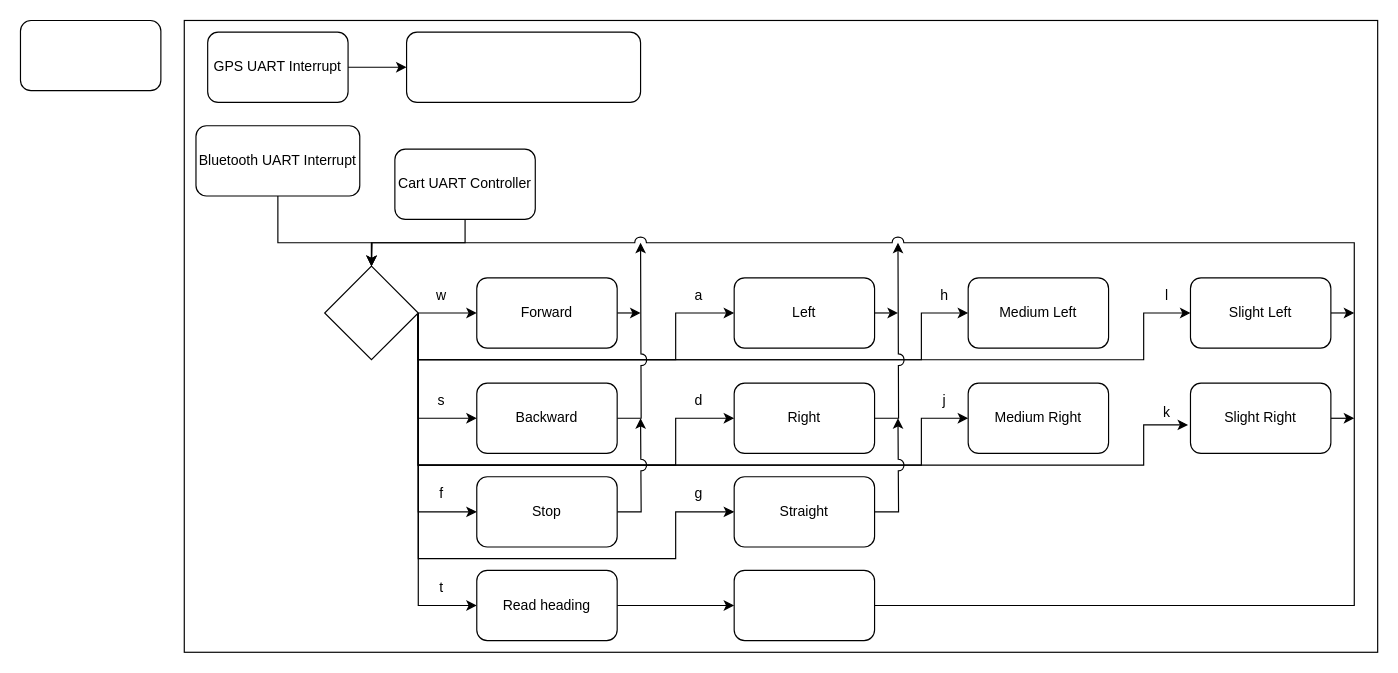
This 1398x673 diagram has some shape labels left out. Each missing label, with the centre of its shape:
"command" belongs at point 371,312.
"Extract lattitude and longtitude" belongs at point 523,66.
"Init" belongs at point 90,55.
"Send position to Cart" belongs at point 804,605.
